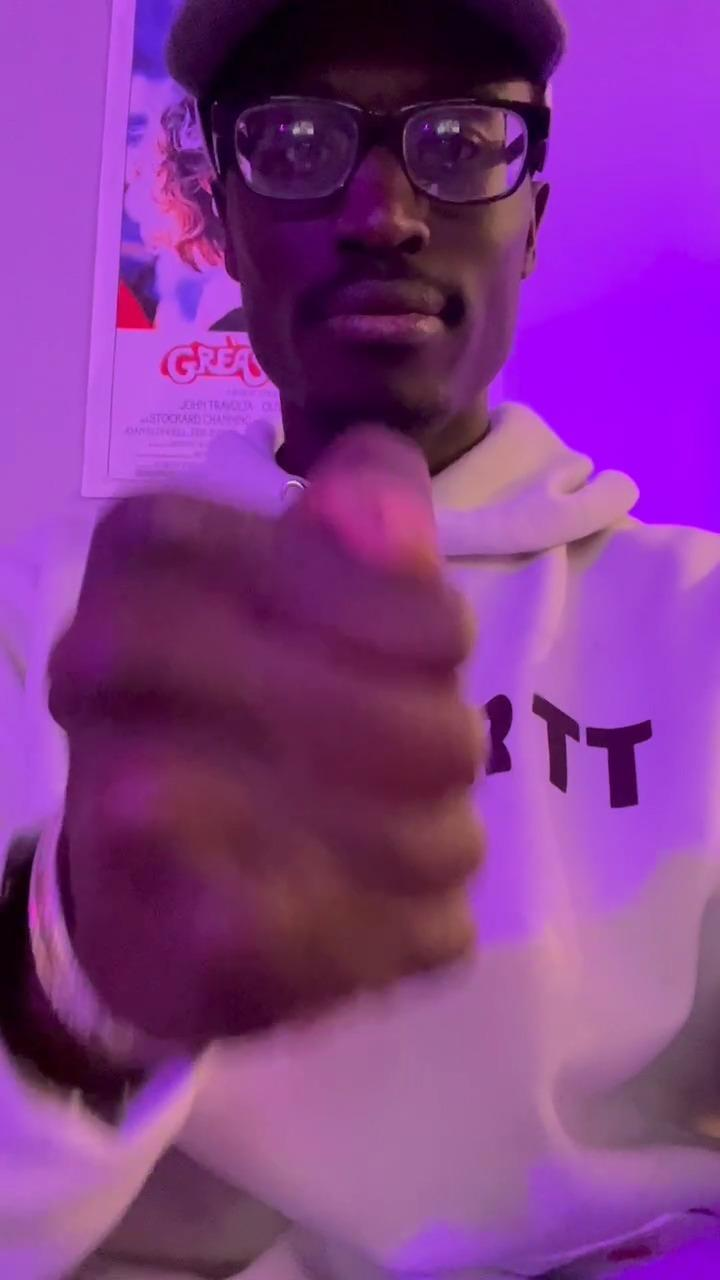Rock: (38, 420, 483, 1042)
